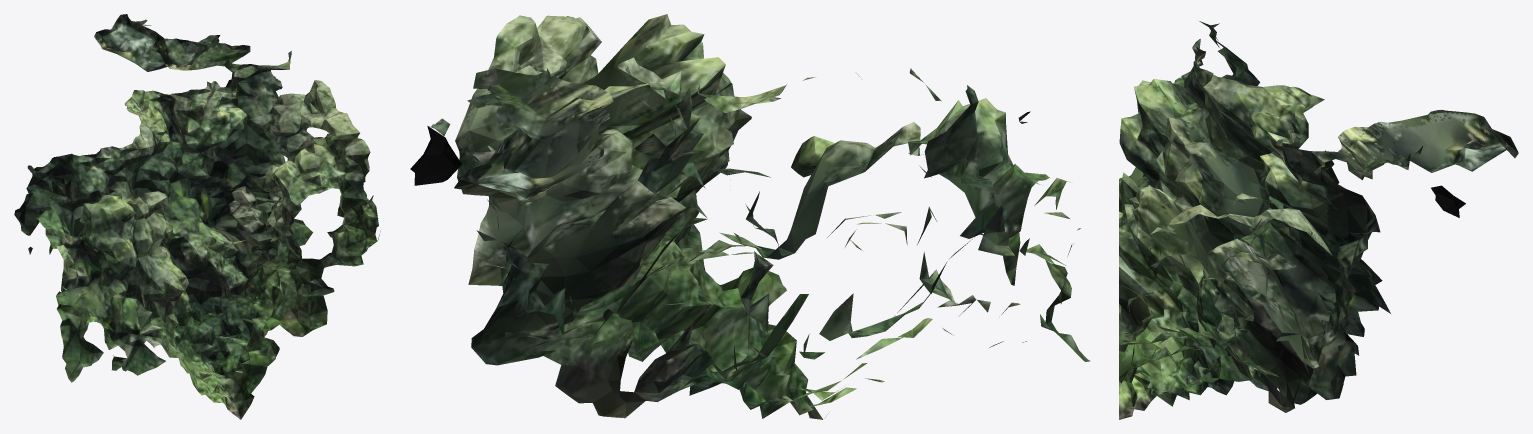
3 views of the same model, side by side, from view 1: azimuth 30°, elevation 25°; view 2: azimuth 150°, elevation 25°; view 3: azimuth 270°, elevation 25° (orthographic). The views are drawn at different scales.
Size of the model in its own units: 52.22 by 43.28 by 50.49.
Materials: 6 (6 with a texture image).
